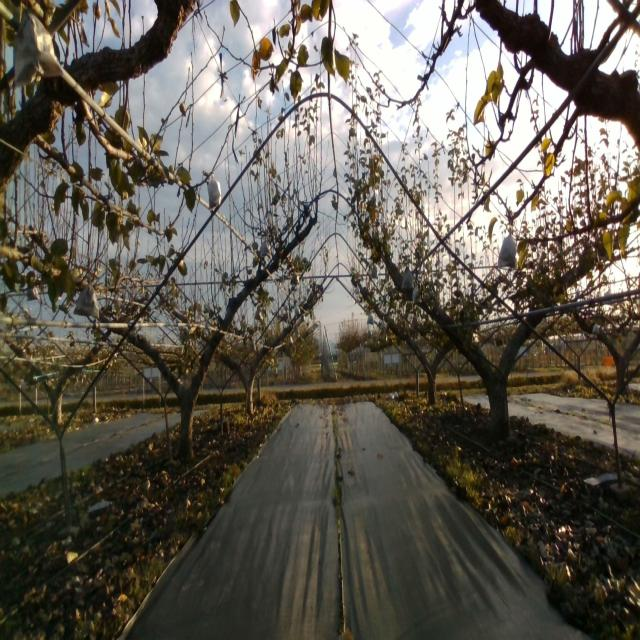pearbags: (13, 5, 64, 86), (497, 227, 518, 270), (207, 171, 222, 208), (258, 236, 272, 261), (402, 266, 414, 291)
